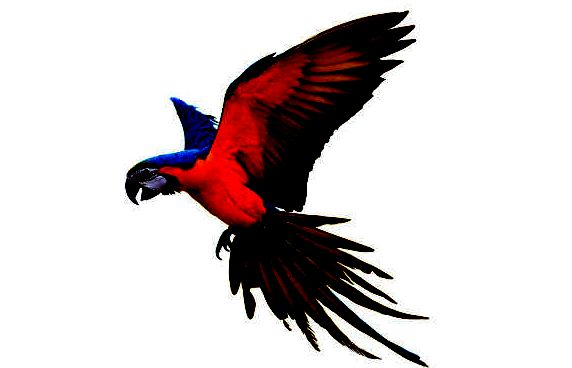Bird: (117, 7, 436, 367)
